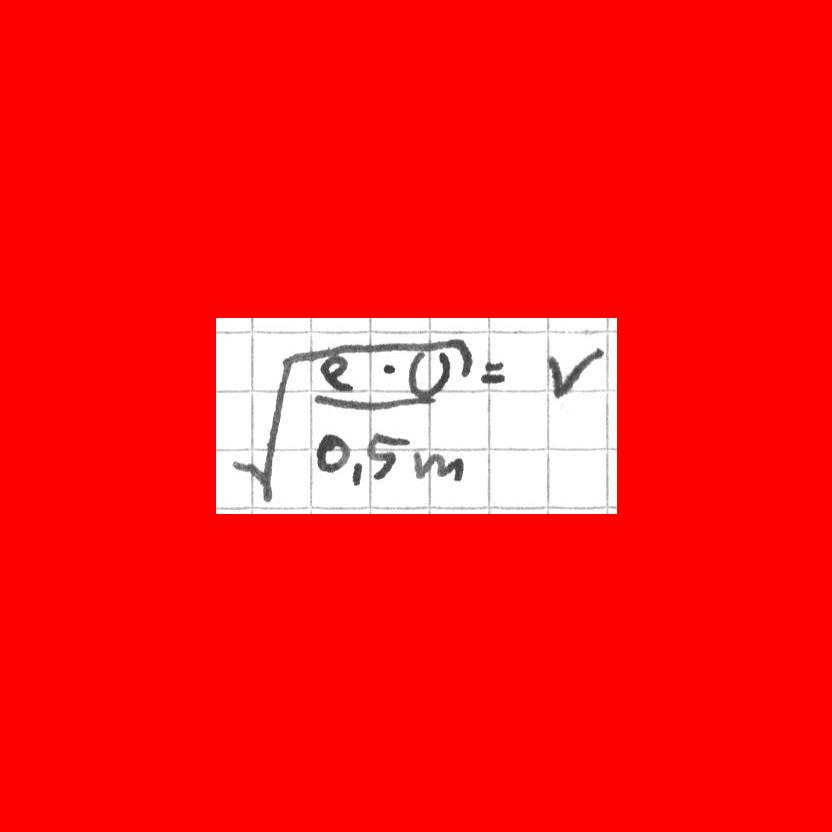Char: (245, 369, 301, 488), (543, 346, 603, 399), (309, 389, 438, 412), (408, 346, 452, 403), (366, 433, 407, 480), (315, 352, 358, 394), (314, 428, 347, 476), (414, 450, 462, 482), (452, 335, 476, 378), (480, 357, 506, 384), (350, 455, 364, 488), (378, 360, 400, 378)
